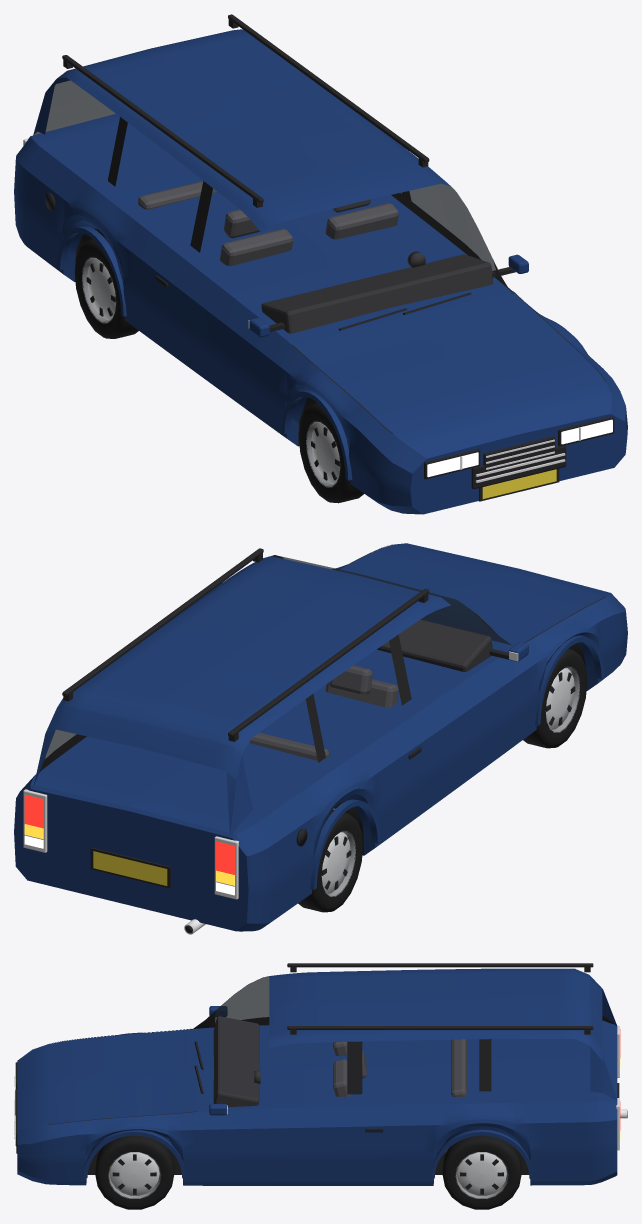
Rendered from tr_estate.glb.
The picture shows the model from 3 angles, top to bottom: view 1: azimuth 30°, elevation 25°; view 2: azimuth 150°, elevation 25°; view 3: azimuth 270°, elevation 25°; orthographic projection. The views are drawn at different scales.
Parts seen in each view (by area): view 1: cabin_roof, tub, hood, door_R, nose, dash, quarter_R, fender_R, cabin_glass, wheel_FR, wheel_RR, tail (+14 smaller); view 2: cabin_roof, tail, tub, door_R, hood, quarter_R, fender_R, wheel_RR, wheel_FR, dash, cabin_glass, nose (+14 smaller); view 3: cabin_roof, tub, door_L, hood, quarter_L, fender_L, wheel_FL, wheel_RL, nose, dash, tail, cabin_pillar (+7 smaller).
Boxes of the visible parts, box(x1,y1,x2,y2) form: cabin_roof: box(33, 29, 450, 232); tub: box(39, 123, 512, 344); hood: box(293, 291, 605, 433); door_R: box(102, 207, 291, 431); nose: box(376, 382, 627, 514); dash: box(261, 254, 493, 333); quarter_R: box(22, 146, 117, 281); fender_R: box(276, 345, 392, 508); cabin_glass: box(34, 80, 497, 276); wheel_FR: box(298, 403, 363, 503); wheel_RR: box(74, 236, 138, 338); tail: box(14, 114, 119, 243); cabin_roof: box(33, 556, 450, 836); tail: box(14, 771, 271, 931); tub: box(41, 644, 509, 823); door_R: box(338, 657, 529, 855); hood: box(338, 545, 604, 648); quarter_R: box(255, 767, 354, 929); fender_R: box(521, 597, 622, 735); wheel_RR: box(298, 810, 363, 912); wheel_FR: box(523, 648, 587, 748); dash: box(377, 619, 492, 671); cabin_glass: box(45, 555, 510, 758); nose: box(393, 543, 627, 663); cabin_roof: box(269, 968, 617, 1100); tub: box(197, 1025, 593, 1111); door_L: box(197, 1103, 467, 1185); hood: box(47, 1028, 197, 1124); quarter_L: box(467, 1101, 593, 1185); fender_L: box(47, 1112, 197, 1185); wheel_FL: box(95, 1135, 174, 1209); wheel_RL: box(442, 1135, 521, 1209); nose: box(17, 1044, 47, 1184); dash: box(213, 1016, 259, 1106); tail: box(593, 1020, 617, 1184); cabin_pillar: box(191, 976, 491, 1094).
Bounding box in the file's own units: 1.89 × 1.47 × 4.81.
